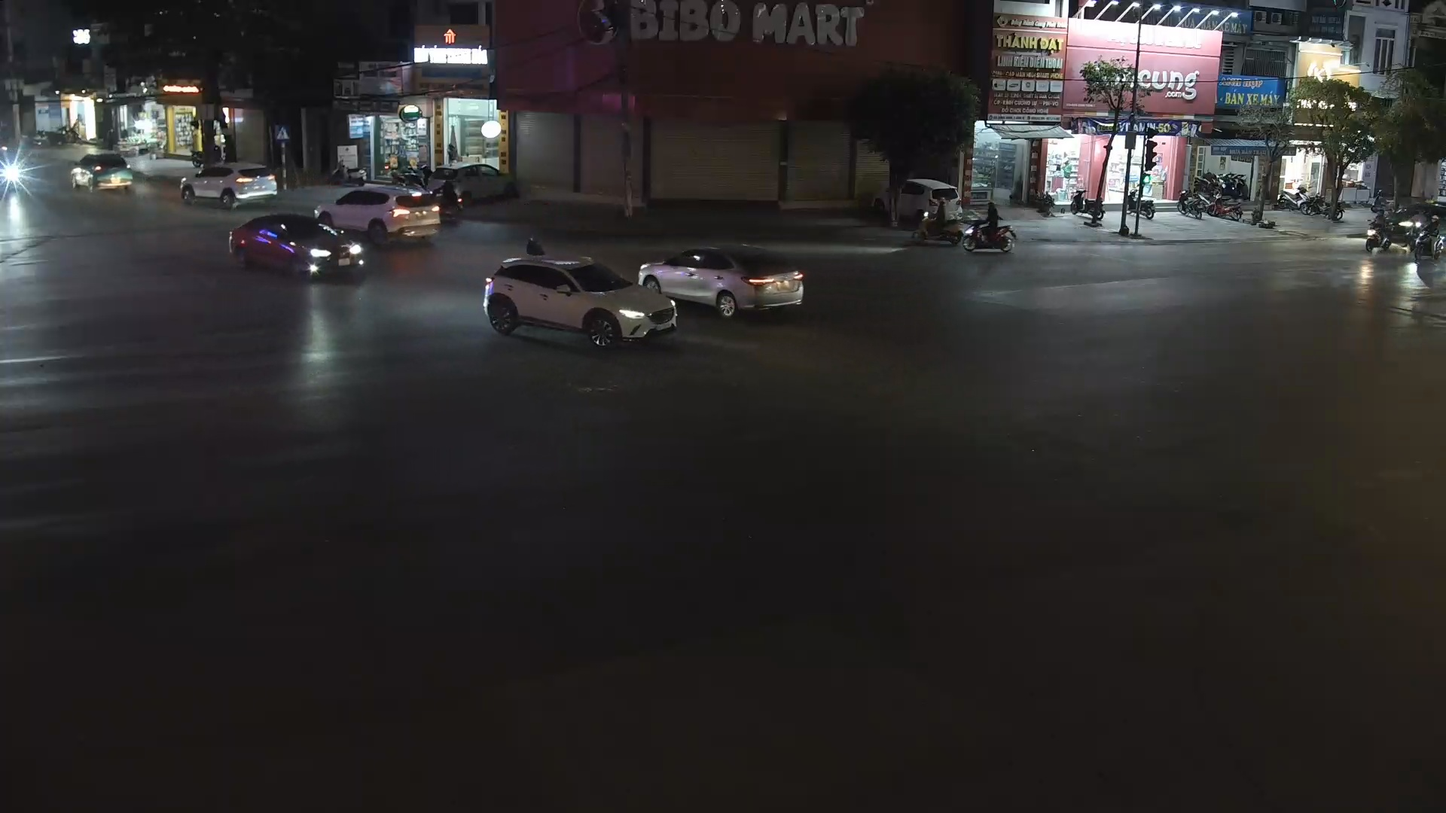car: (481, 251, 682, 350), (227, 200, 367, 287), (636, 248, 806, 319), (322, 181, 442, 250)
motorbike: (958, 198, 1017, 257)
